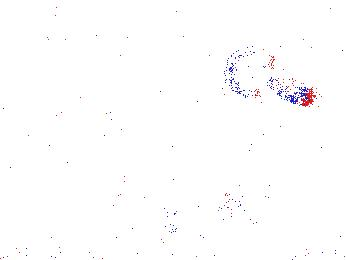flame jellyfish: (222, 46, 315, 107), (214, 166, 288, 219), (116, 171, 178, 226)
